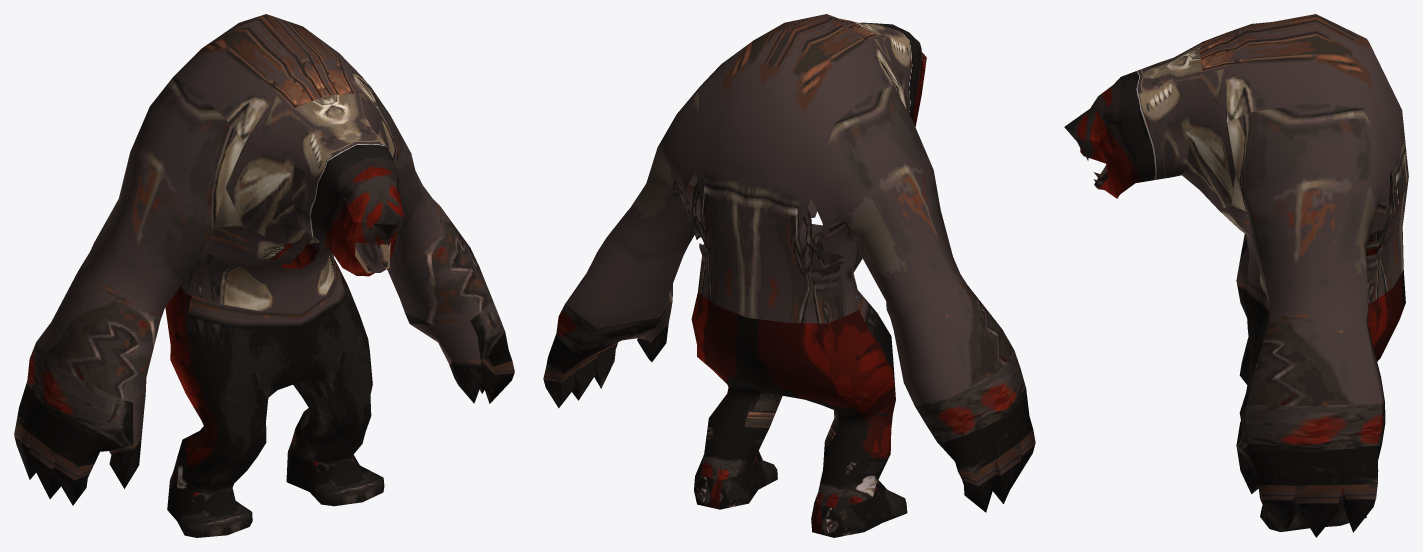
Rendered from c_sturm_melee01_7576fee6.glb.
The picture shows the model from 3 angles, left to right: view 1: azimuth 30°, elevation 25°; view 2: azimuth 150°, elevation 25°; view 3: azimuth 270°, elevation 25°; orthographic projection. The views are drawn at different scales.
Bounding box in the file's own units: 2.64 × 2.71 × 1.8.
1 material, 1 textured.
